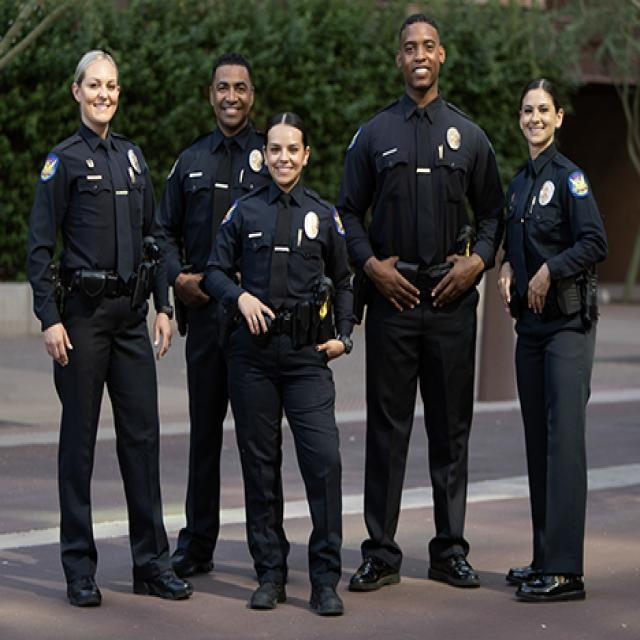police: (346, 14, 498, 604), (28, 32, 178, 598), (209, 114, 361, 622), (487, 73, 612, 609), (163, 44, 273, 582)
